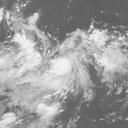cyclone: (38, 40, 88, 89)
